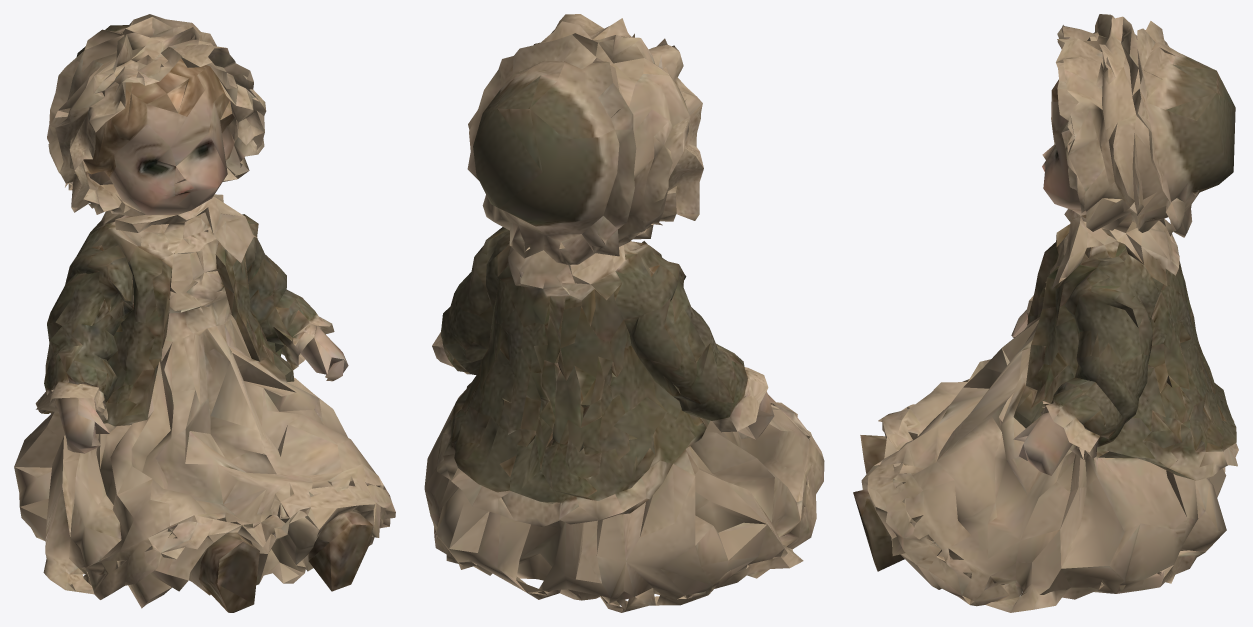
The model's file is up_doll_bisque_baby.glb.
The picture shows the model from 3 angles, left to right: view 1: azimuth 30°, elevation 25°; view 2: azimuth 150°, elevation 25°; view 3: azimuth 270°, elevation 25°; orthographic projection. The views are drawn at different scales.
Visible parts, largest first — view 1: up_doll_bisque_baby; view 2: up_doll_bisque_baby; view 3: up_doll_bisque_baby.
Part boxes in pixels (x1,y1,x2,y2): up_doll_bisque_baby: [14, 14, 395, 612]; up_doll_bisque_baby: [424, 14, 824, 612]; up_doll_bisque_baby: [853, 14, 1238, 612].
Bounding box in the file's own units: 0.2734 × 0.4 × 0.2757.
Materials: 1 (1 with a texture image).
